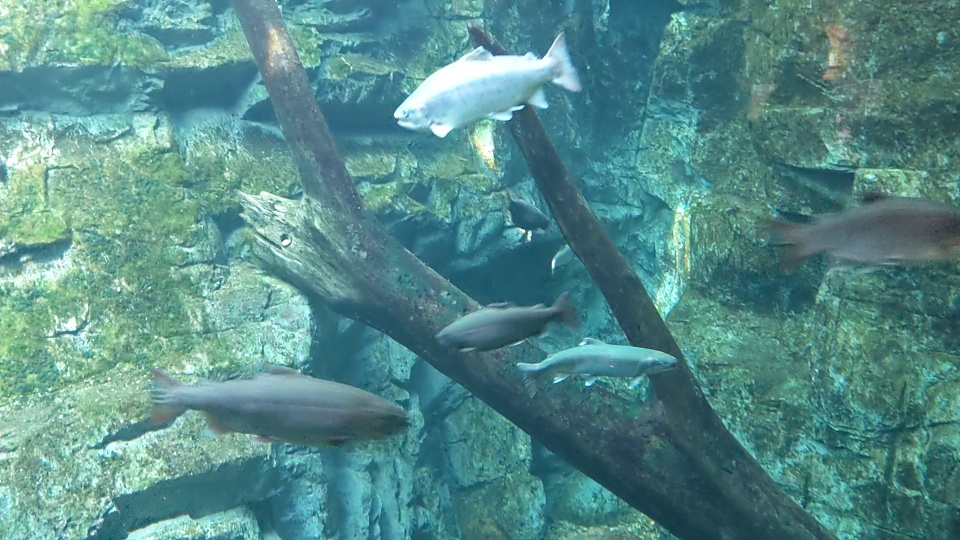Fish: (387, 33, 583, 134), (156, 364, 404, 443), (756, 183, 960, 264), (518, 338, 689, 399), (443, 295, 569, 354), (503, 188, 548, 229), (548, 246, 577, 268)
